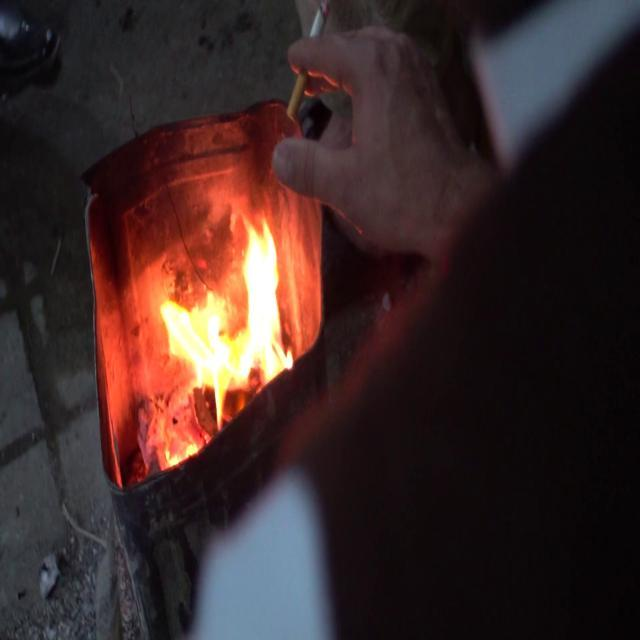Fire: (153, 195, 290, 398)
